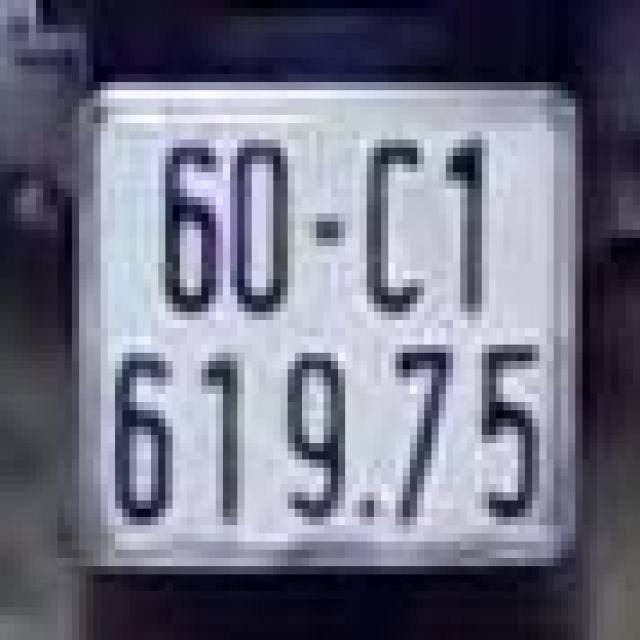0: (220, 127, 298, 324)
1: (194, 340, 252, 538), (442, 119, 493, 332)
5: (471, 324, 557, 546)
6: (104, 340, 176, 538), (155, 127, 219, 324)
7: (378, 328, 457, 542)
9: (262, 324, 356, 538)
C: (352, 131, 424, 320)
